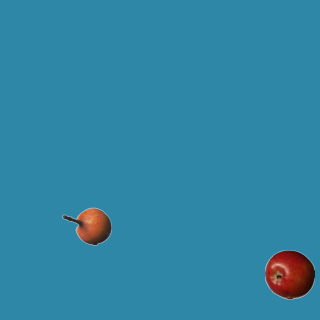Apple Braeburn: (264, 249, 314, 299)
Granadilla: (61, 201, 111, 251)
